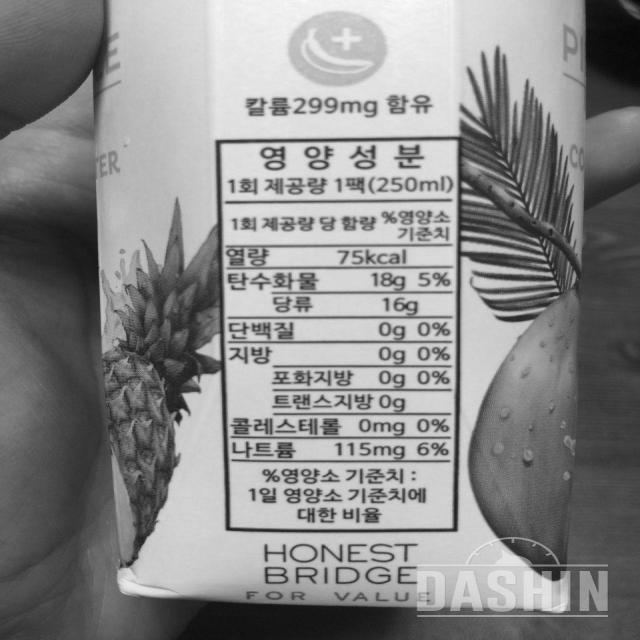Nutrition Label: (213, 128, 480, 546)
